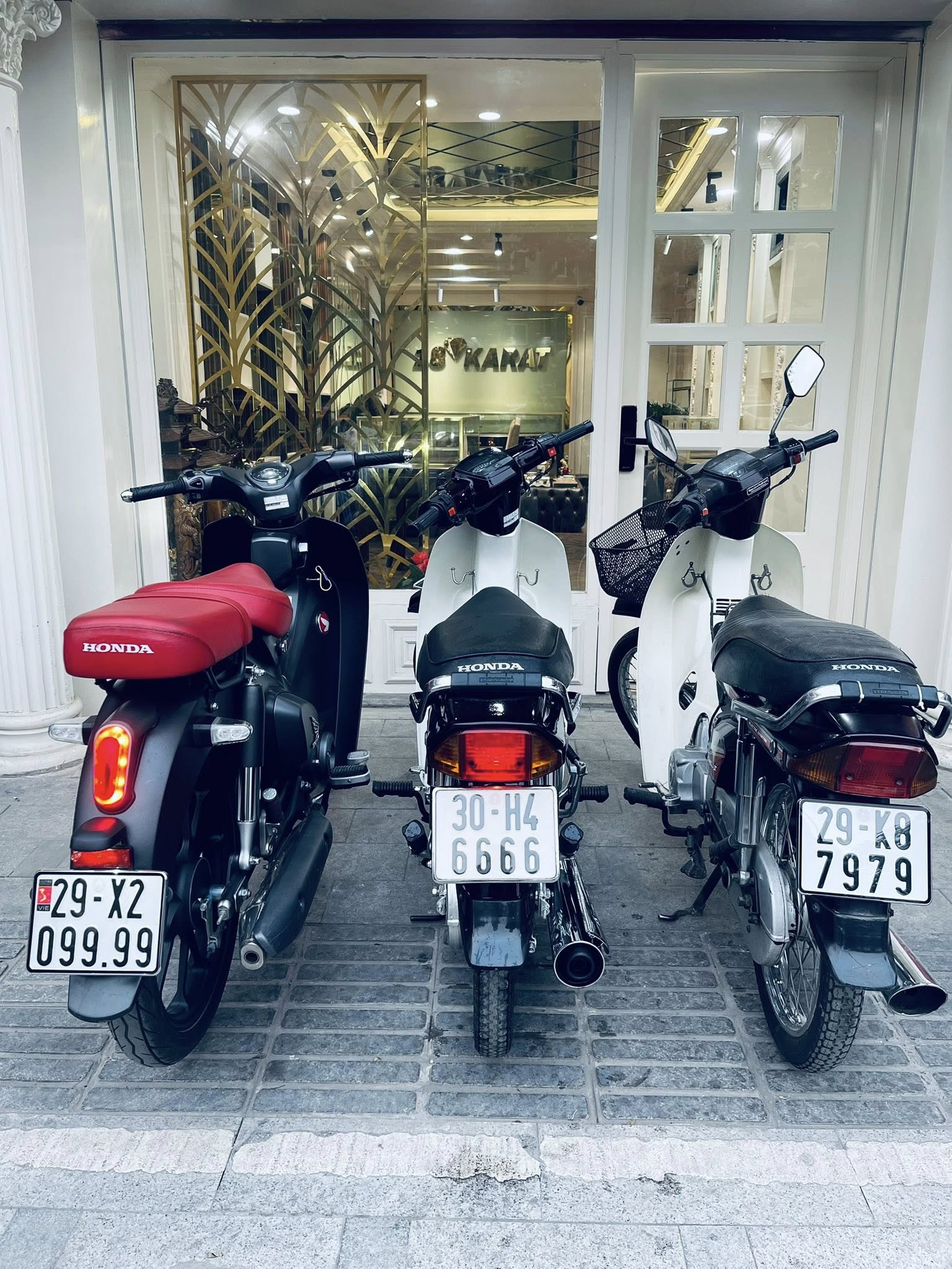bien_so: (21, 866, 172, 985), (791, 793, 941, 912), (425, 779, 569, 895)
